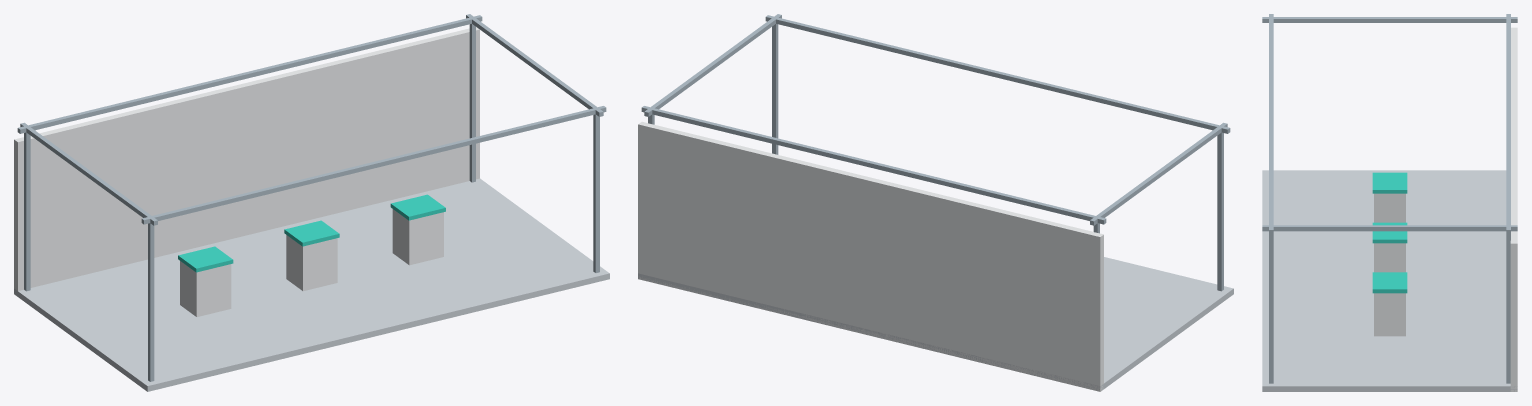
3 views of the same model, side by side, from view 1: azimuth 30°, elevation 25°; view 2: azimuth 150°, elevation 25°; view 3: azimuth 270°, elevation 25° (orthographic). The views are drawn at different scales.
Visible parts, largest first — view 1: Exhibition Booth Concept; view 2: Exhibition Booth Concept; view 3: Exhibition Booth Concept.
Boxes of the visible parts, x1,y1,x2,y2 form: Exhibition Booth Concept: [14, 14, 609, 391]; Exhibition Booth Concept: [638, 14, 1233, 391]; Exhibition Booth Concept: [1262, 14, 1517, 391].
Bounding box in the file's own units: 10 × 3.49 × 5.
